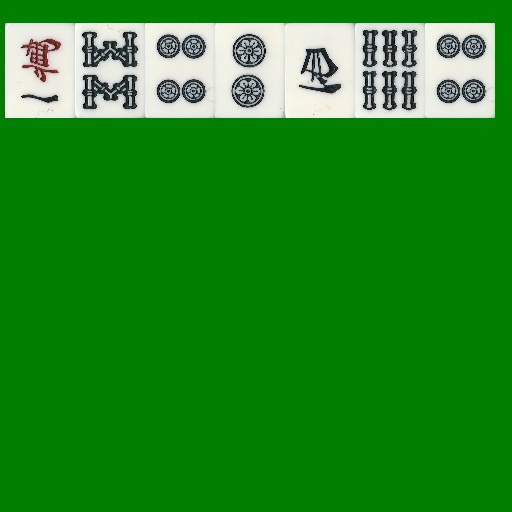1m: (5, 23, 75, 118)
2p: (215, 23, 285, 118)
4p: (145, 23, 215, 118), (425, 23, 495, 118)
6s: (355, 23, 425, 118)
8s: (75, 23, 145, 118)
west: (285, 23, 355, 118)
